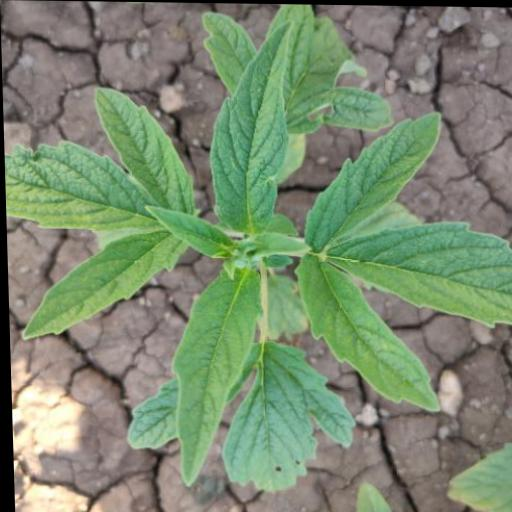crop: (1, 59, 509, 461)
